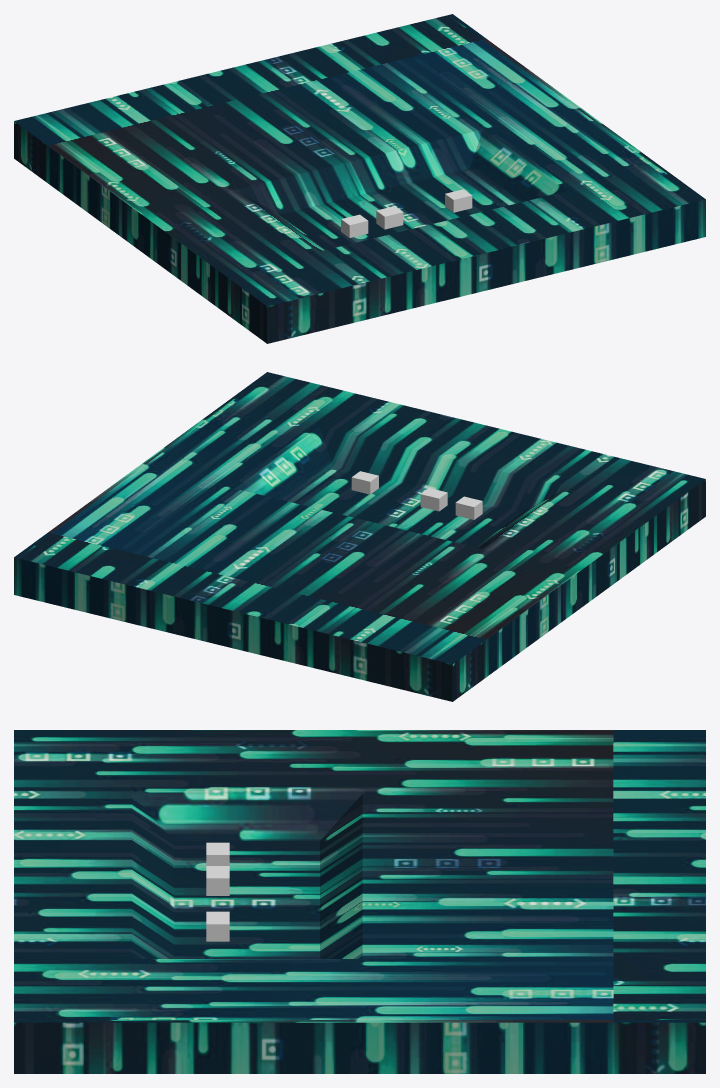
Rendered from Floor04.fbx.
The picture shows the model from 3 angles, top to bottom: view 1: azimuth 30°, elevation 25°; view 2: azimuth 150°, elevation 25°; view 3: azimuth 270°, elevation 25°; orthographic projection. The views are drawn at different scales.
Parts seen in each view (by area): view 1: Cube.016; view 2: Cube.016; view 3: Cube.016.
Boxes of the visible parts, <box> form: Cube.016: <box>14,14,705,343</box>; Cube.016: <box>14,372,705,701</box>; Cube.016: <box>14,730,705,1073</box>.
Size of the model in its own units: 200 by 200 by 16.36.
